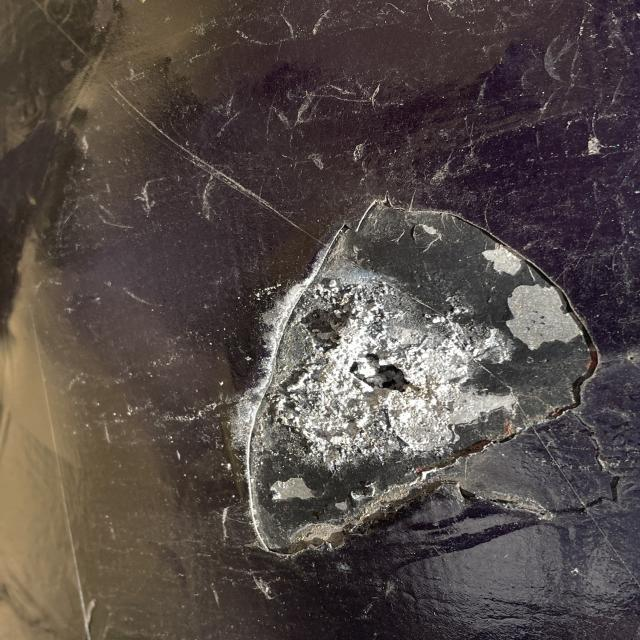dent: (216, 189, 611, 569)
